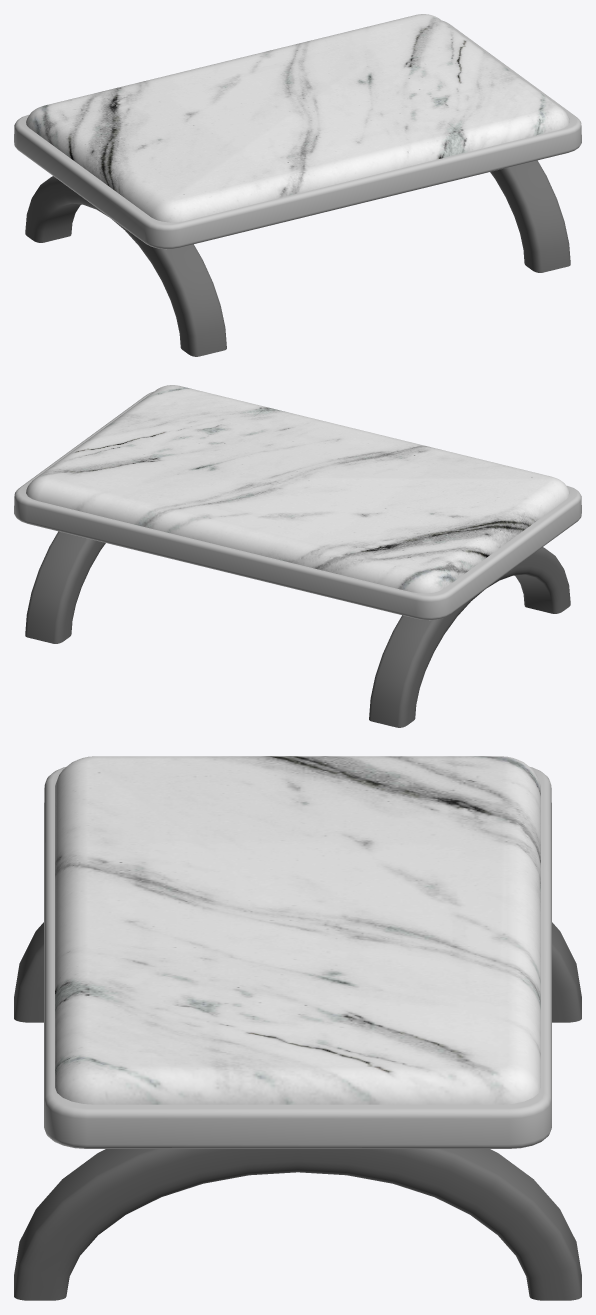
Rendered from laptopMasa.fbx.
3 views of the same model, one above another, from view 1: azimuth 30°, elevation 25°; view 2: azimuth 150°, elevation 25°; view 3: azimuth 270°, elevation 25° (orthographic). The views are drawn at different scales.
Parts seen in each view (by area): view 1: masaUst, masaAhsap, ayak; view 2: masaUst, masaAhsap, ayak; view 3: masaUst, ayak, masaAhsap.
Part boxes in pixels (left/top/right/bottom): masaUst: left=26, top=14, right=569, bottom=222; masaAhsap: left=14, top=20, right=581, bottom=249; ayak: left=25, top=160, right=570, bottom=356; masaUst: left=26, top=385, right=569, bottom=593; masaAhsap: left=14, top=391, right=581, bottom=620; ayak: left=25, top=531, right=570, bottom=727; masaUst: left=55, top=756, right=540, bottom=1104; ayak: left=14, top=922, right=581, bottom=1300; masaAhsap: left=44, top=766, right=551, bottom=1148.
Bounding box in the file's own units: 860 × 267 × 588.
